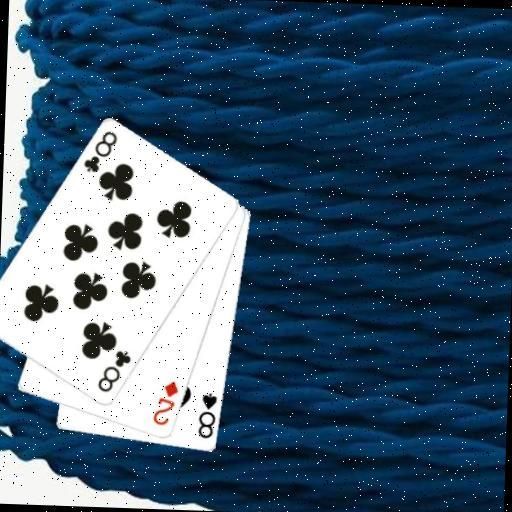2D: (149, 377, 180, 428)
8C: (94, 347, 133, 395), (80, 127, 119, 175)
8S: (194, 390, 219, 441)
